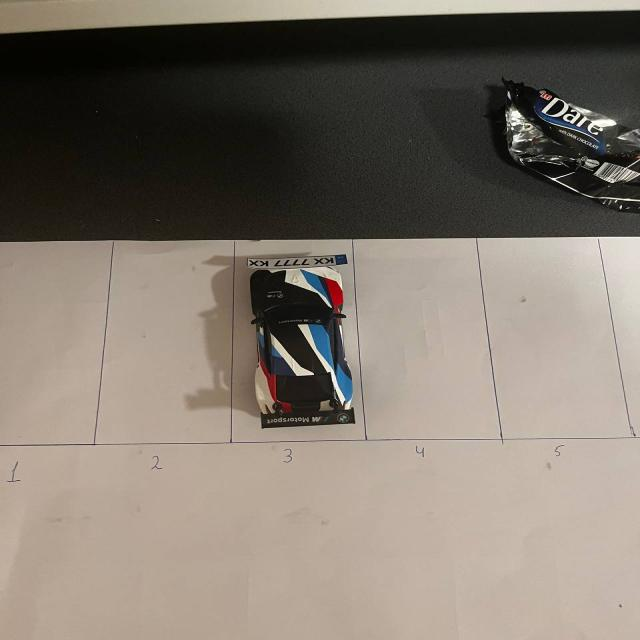KX 7777 KX: (244, 249, 362, 273)
